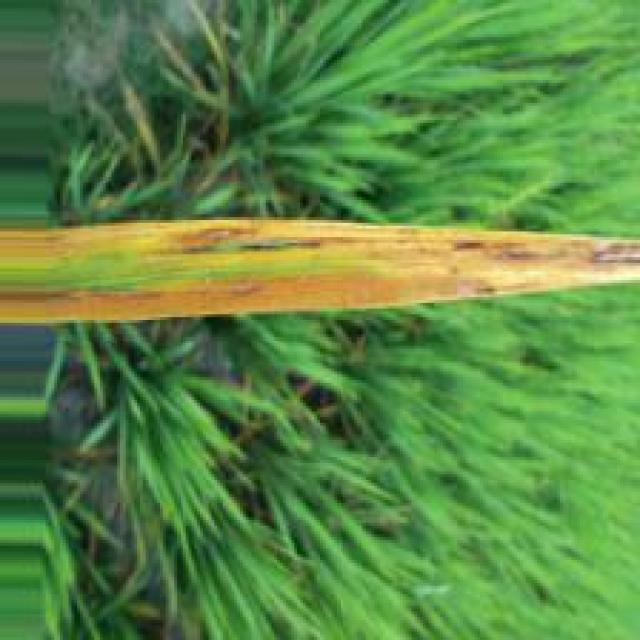Bacterial_Leaf_Blight: (0, 213, 640, 323)
